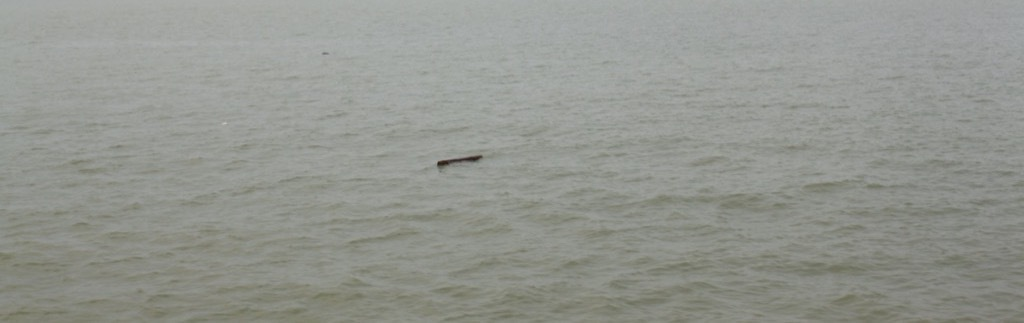organic: (427, 147, 490, 175), (317, 47, 332, 59)
plastic: (208, 113, 238, 135)
